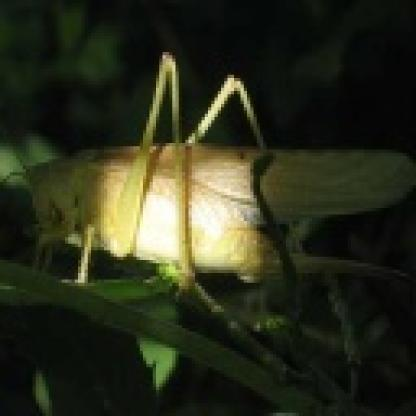grasshopper: (0, 49, 405, 292)
